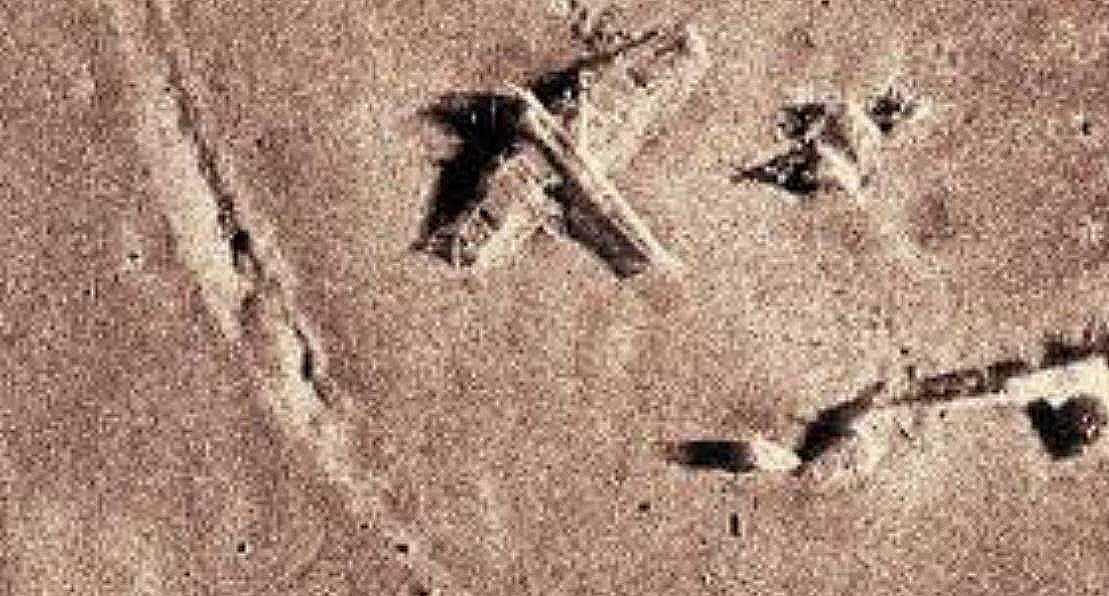aircraft: (402, 25, 711, 288)
